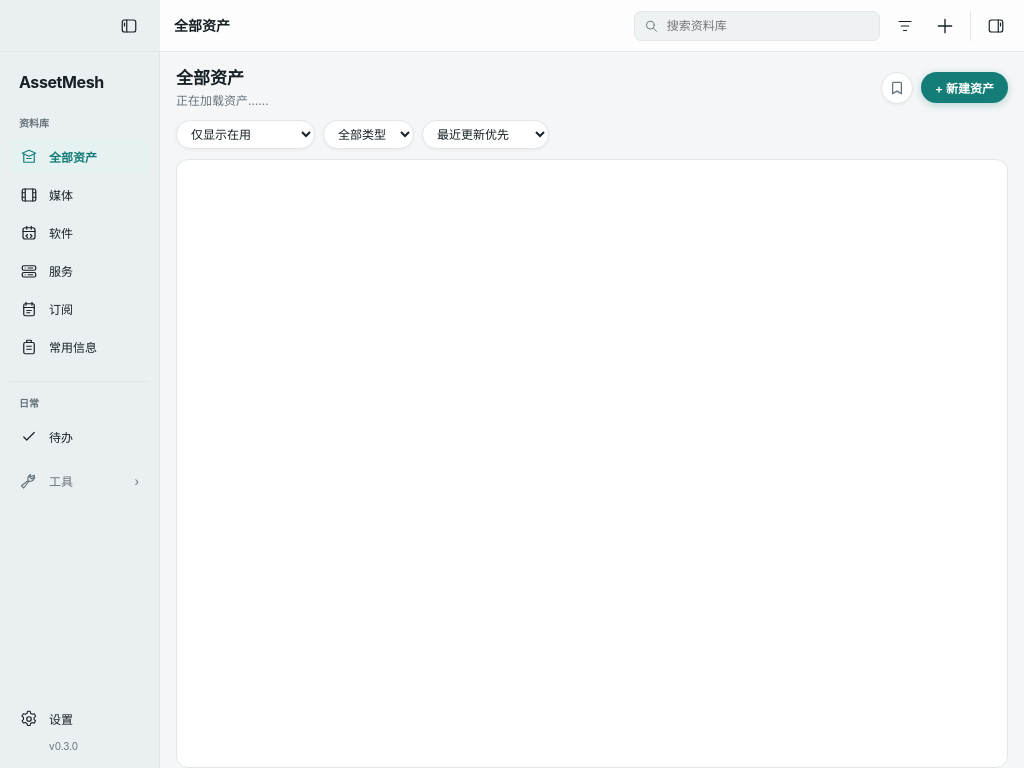
Test case: Chinese interface › renders the configured default in Chinese and switches language from Settings
Expected: the tab with test id "nav-all" reads "全部资产", [10,139,149,174]
Expected: the tab with test id "nav-media" reads "媒体", [10,177,149,212]
Step 1. Click the tab with test id "nav-settings" → (80, 718), box [10,701,149,736]
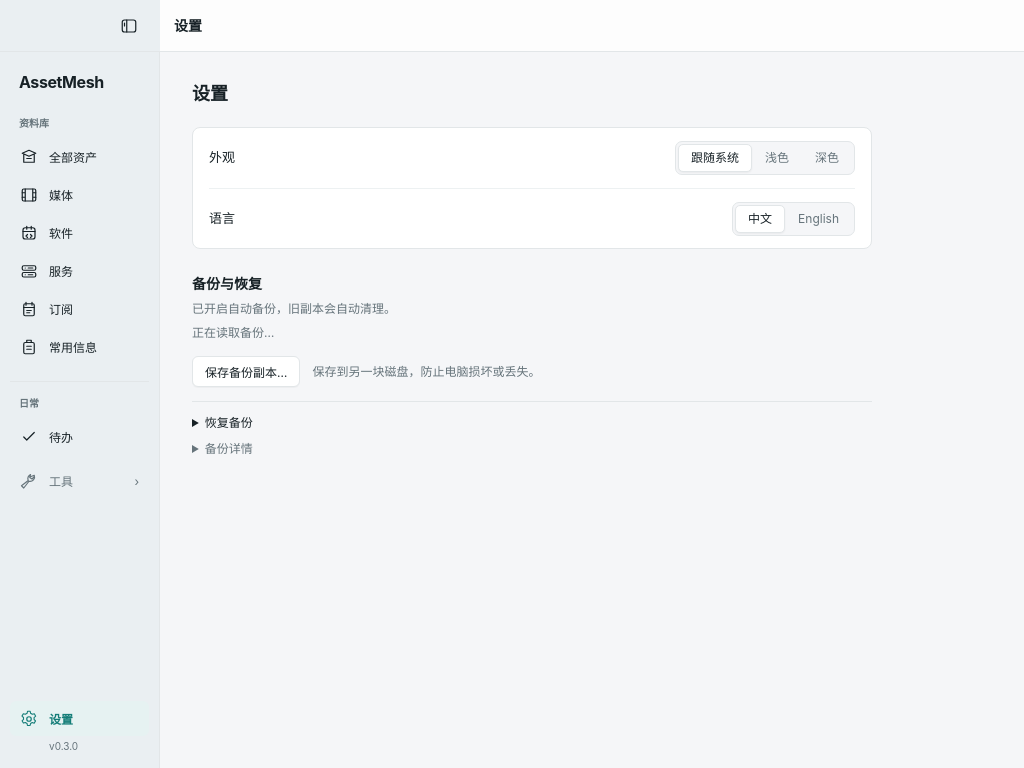
Now the element with test id "settings-language-section" is shown, box [209,188,855,248]
Step 2. Click the button with test id "lang-en" → (819, 218), box [785,204,852,232]
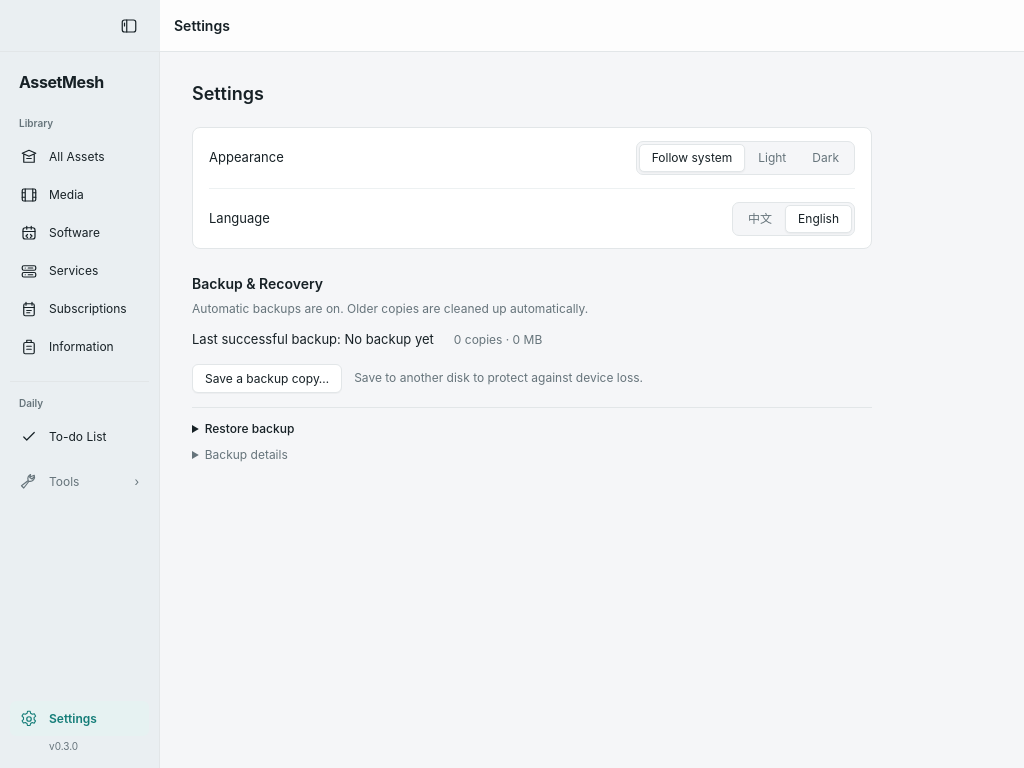
Now the tab with test id "nav-all" reads "All Assets", box [10,139,149,174]
Now the tab with test id "nav-media" reads "Media", box [10,177,149,212]
